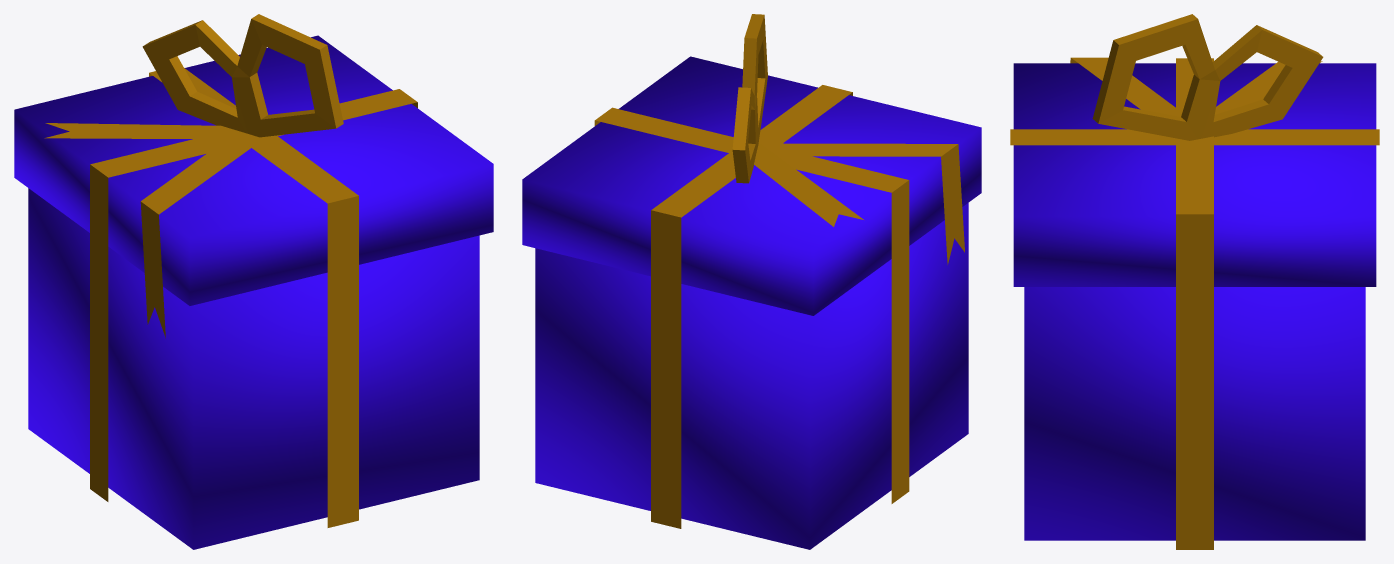
The model's file is geschenk.fbx.
The picture shows the model from 3 angles, left to right: view 1: azimuth 30°, elevation 25°; view 2: azimuth 150°, elevation 25°; view 3: azimuth 270°, elevation 25°; orthographic projection. The views are drawn at different scales.
Visible parts, largest first — view 1: Geschenk; view 2: Geschenk; view 3: Geschenk.
Part boxes in pixels (left/top/right/bottom): Geschenk: left=14, top=14, right=493, bottom=549; Geschenk: left=522, top=14, right=981, bottom=549; Geschenk: left=1010, top=14, right=1379, bottom=549.
Size of the model in its own units: 210 by 278 by 204.
